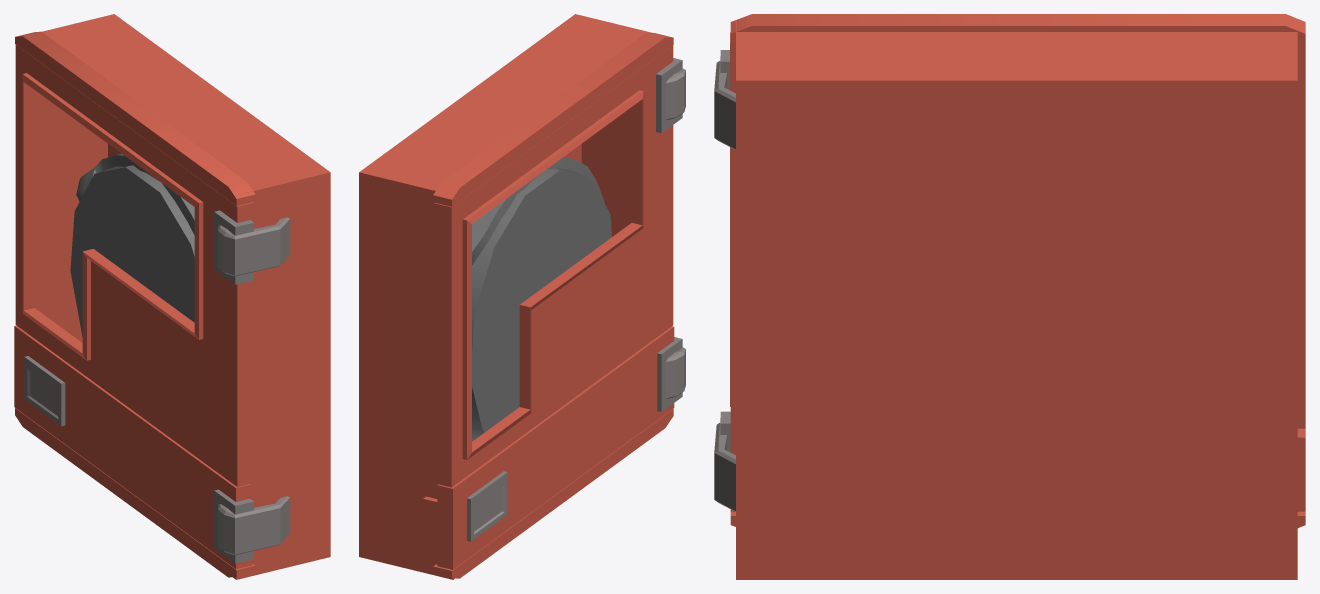
File: SM_Extinguisher_02.fbx
3 renders of one model, left to right at view 1: azimuth 30°, elevation 25°; view 2: azimuth 150°, elevation 25°; view 3: azimuth 270°, elevation 25°, orthographic. The views are drawn at different scales.
Visible parts, largest first — view 1: SM_Extinguisher_02; view 2: SM_Extinguisher_02; view 3: SM_Extinguisher_02.
Part boxes in pixels (x1,y1,x2,y2): SM_Extinguisher_02: (14, 14, 330, 579); SM_Extinguisher_02: (359, 14, 685, 579); SM_Extinguisher_02: (714, 14, 1305, 579).
Bounding box in the file's own units: 25.82 × 89.4 × 94.49.
